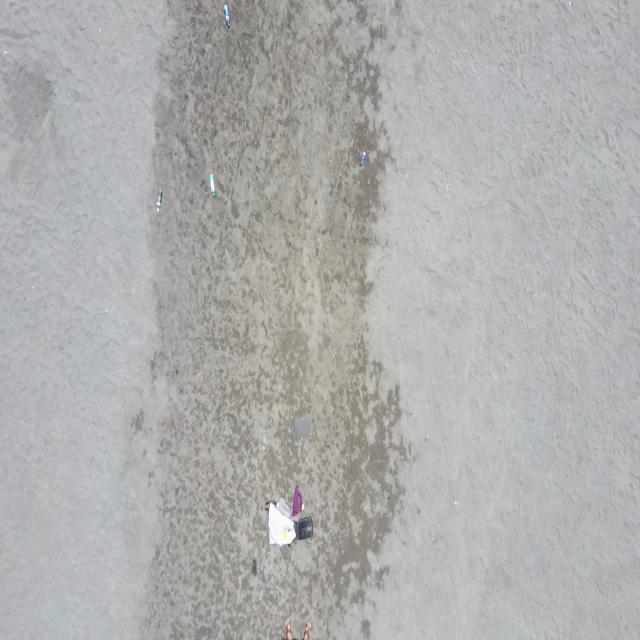plastic-bottle: (154, 189, 164, 212), (223, 2, 231, 30), (208, 173, 216, 199), (360, 150, 367, 167)
